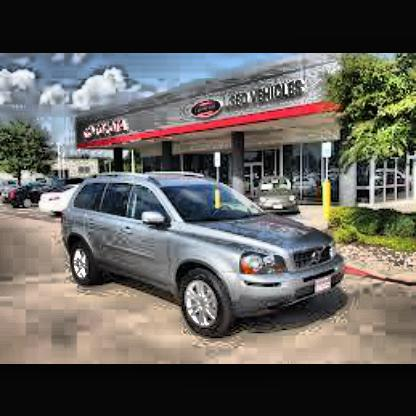Volvo XC90 SUV 2007: (57, 173, 347, 340)
